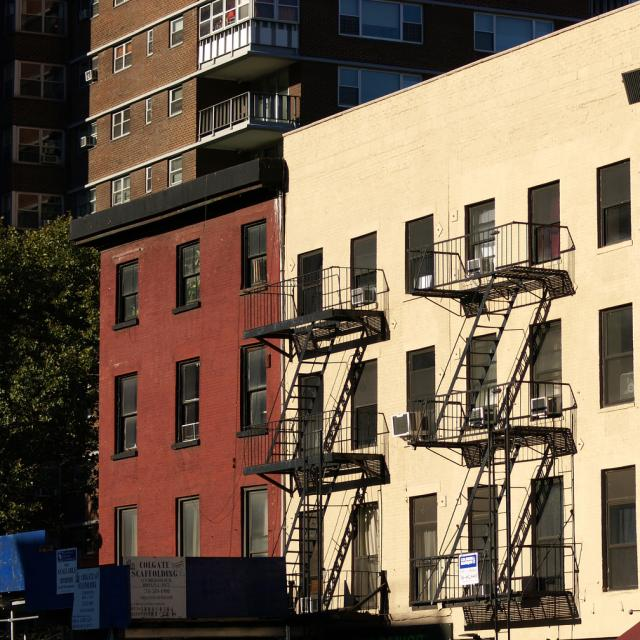no_fire: (14, 29, 604, 624)
